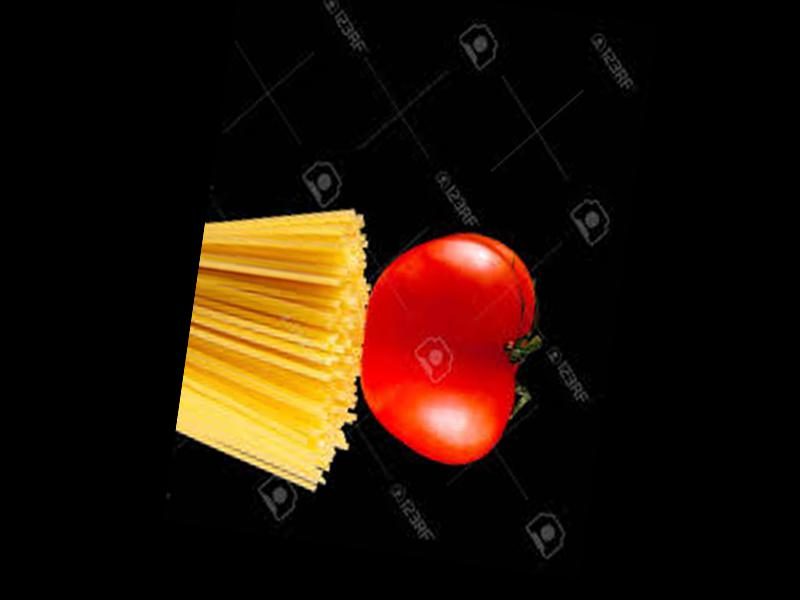Tomato: (346, 224, 544, 471)
